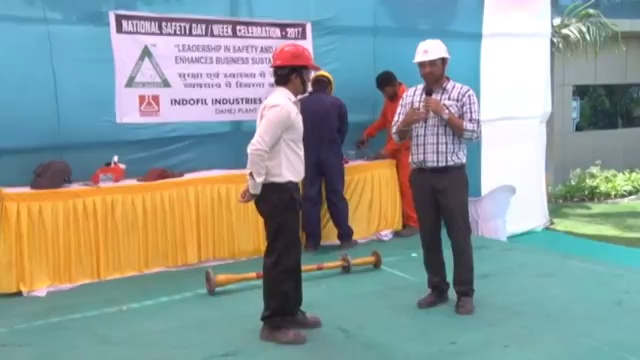helmet: (269, 43, 322, 72), (410, 36, 452, 65), (310, 66, 335, 87)
helmet_off: (374, 69, 403, 102)
helmet_on: (268, 44, 323, 101), (408, 35, 453, 92), (309, 65, 335, 97)
person: (238, 44, 325, 348), (392, 36, 486, 315), (300, 65, 361, 252), (360, 68, 421, 238)
